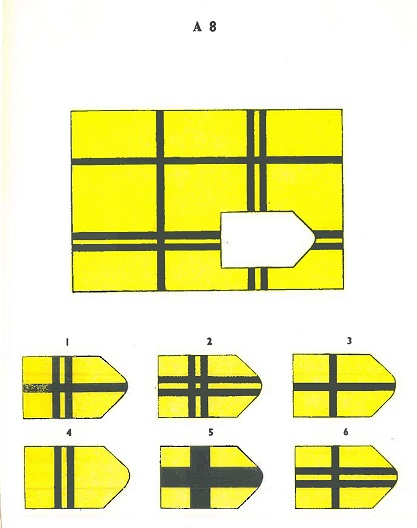Array 1: (17, 334, 132, 423)
Array 2: (153, 334, 266, 423)
Array 3: (289, 334, 402, 422)
Array 4: (17, 426, 133, 512)
Array 5: (153, 426, 267, 514)
Array 6: (290, 425, 403, 514)
Matrix: (67, 105, 348, 295)
Matrix Unknown: (217, 207, 317, 269)
